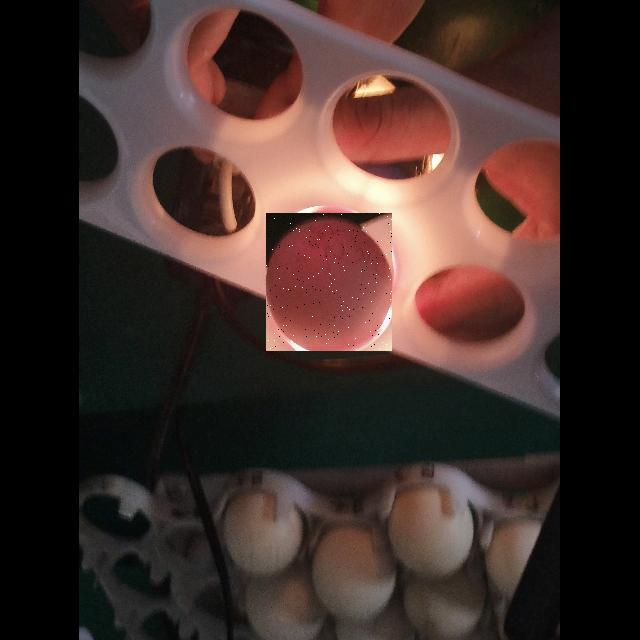Fertile: (266, 213, 392, 351)
